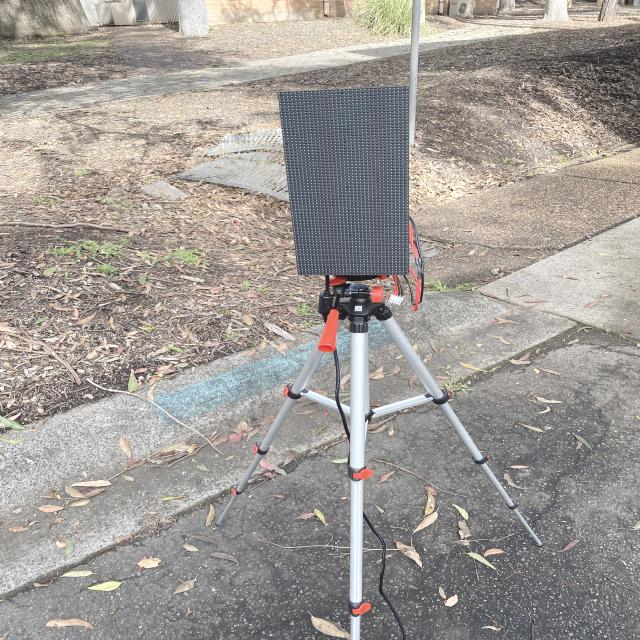matrix: (270, 86, 425, 284)
